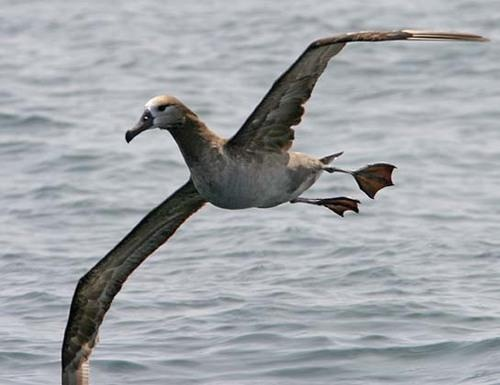bird: (58, 27, 494, 382)
